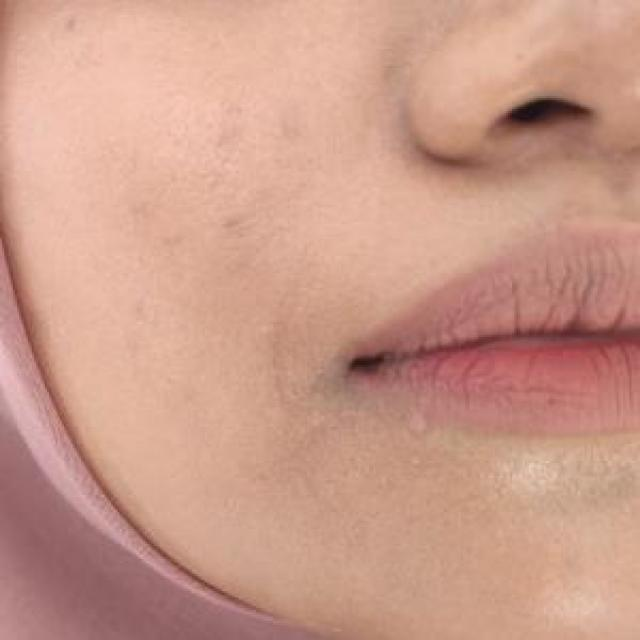Oily-Skin: (268, 427, 640, 640)
